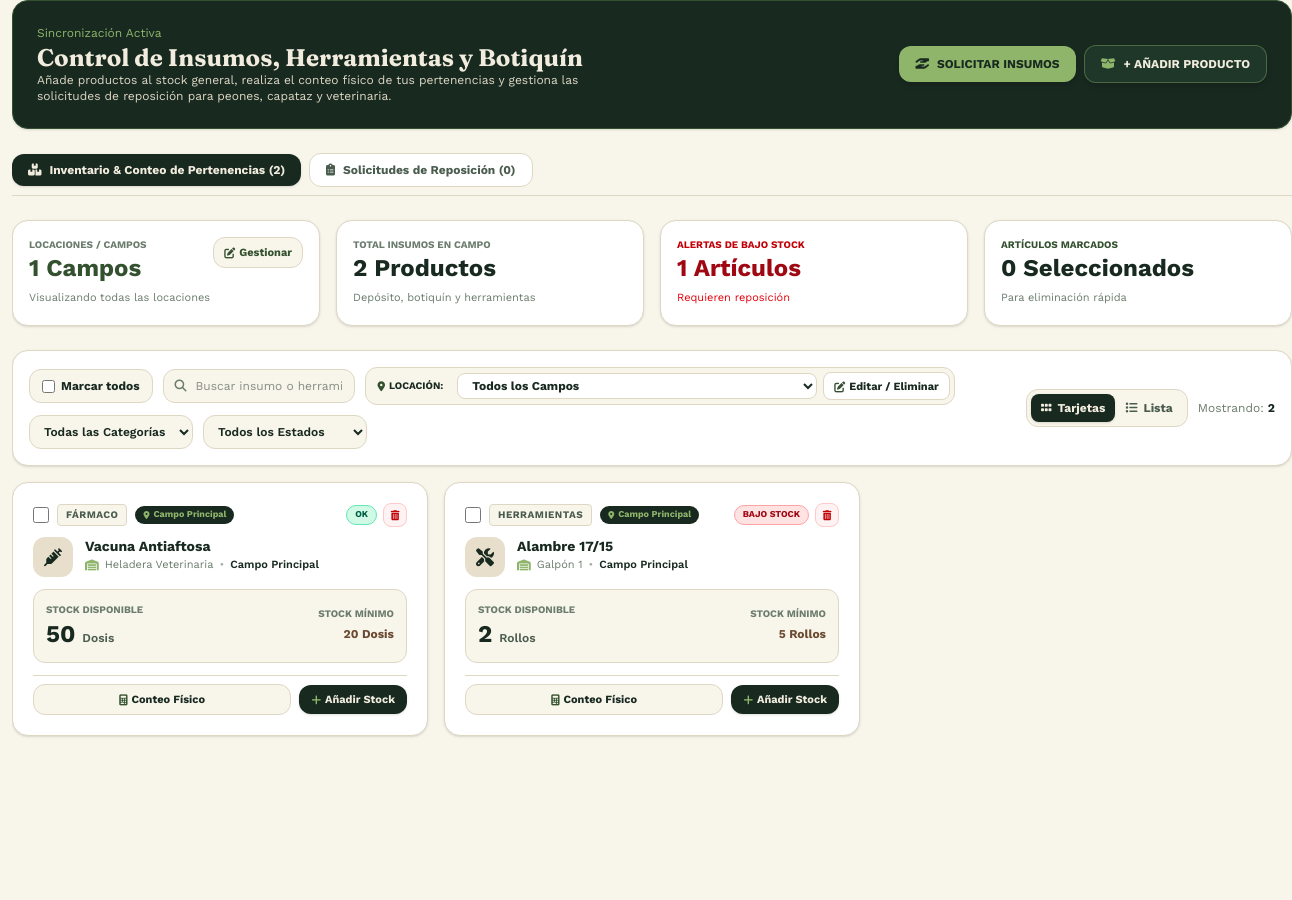
Test: Vista de Inventario e Insumos (InsumosView.jsx) › checkbox 'Marcar todos' selecciona todos los insumos y permite desmarcarlos
Expected: the heading "Vacuna Antiaftosa" is shown, [85,538,210,554]
Click the checkbox labelled "Marcar todos" at point(48, 386), box [42,380,55,393]
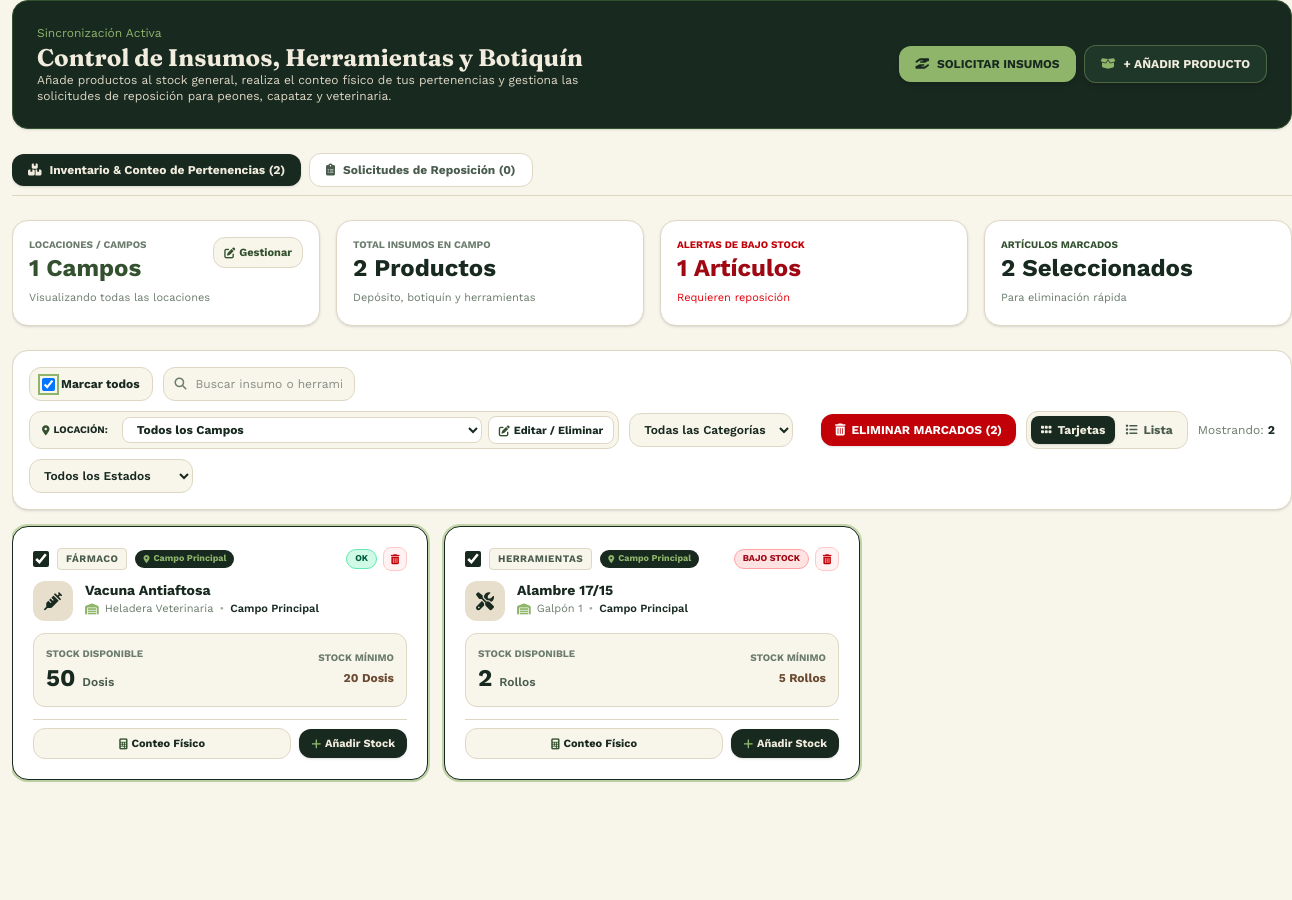
Result: the button "Eliminar Marcados (2)" is shown at [821,414,1016,446]
Click the checkbox labelled "Marcar todos" at point(48, 384), box [42,378,55,391]
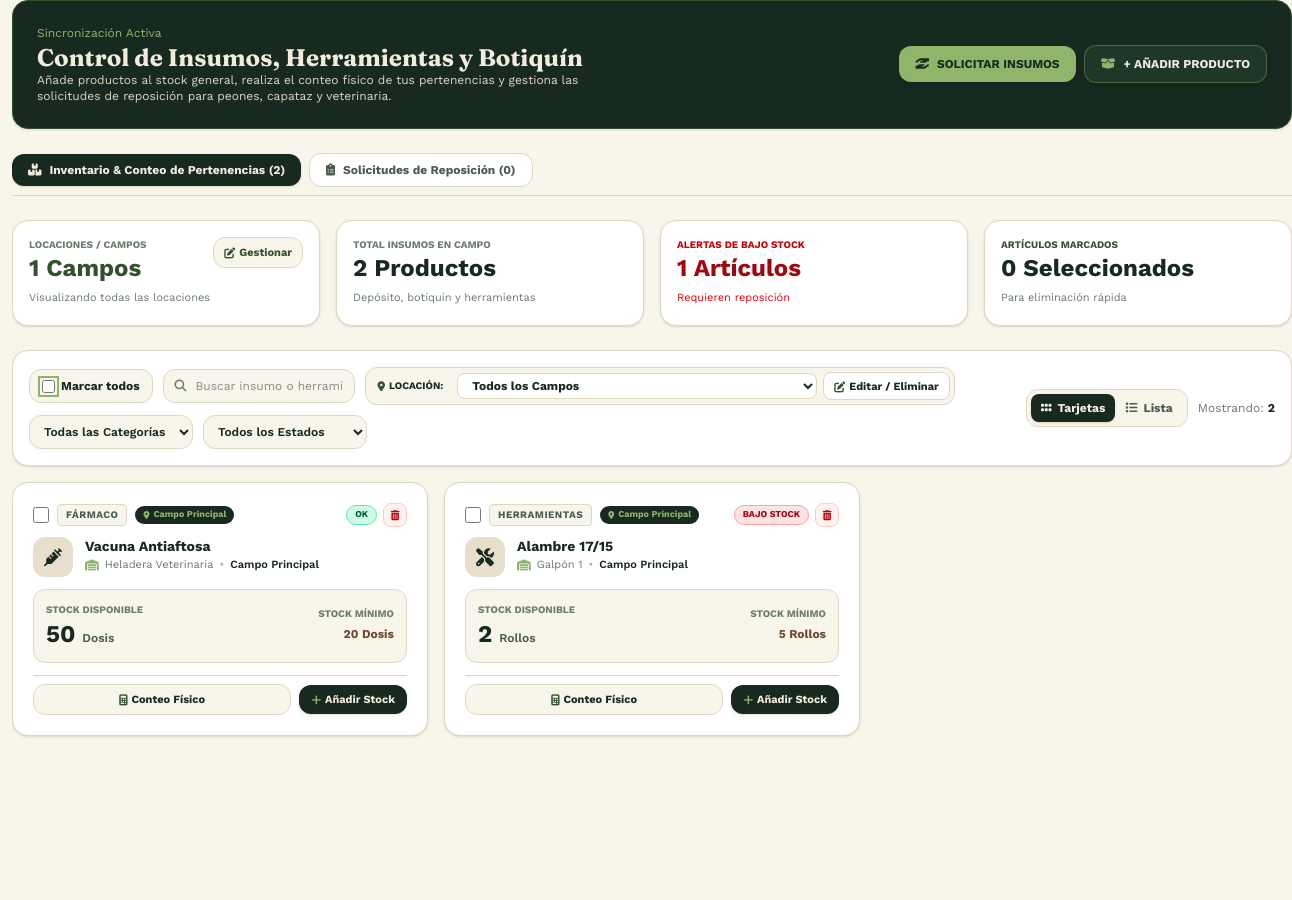
Result: the button "Eliminar Marcados" is gone
